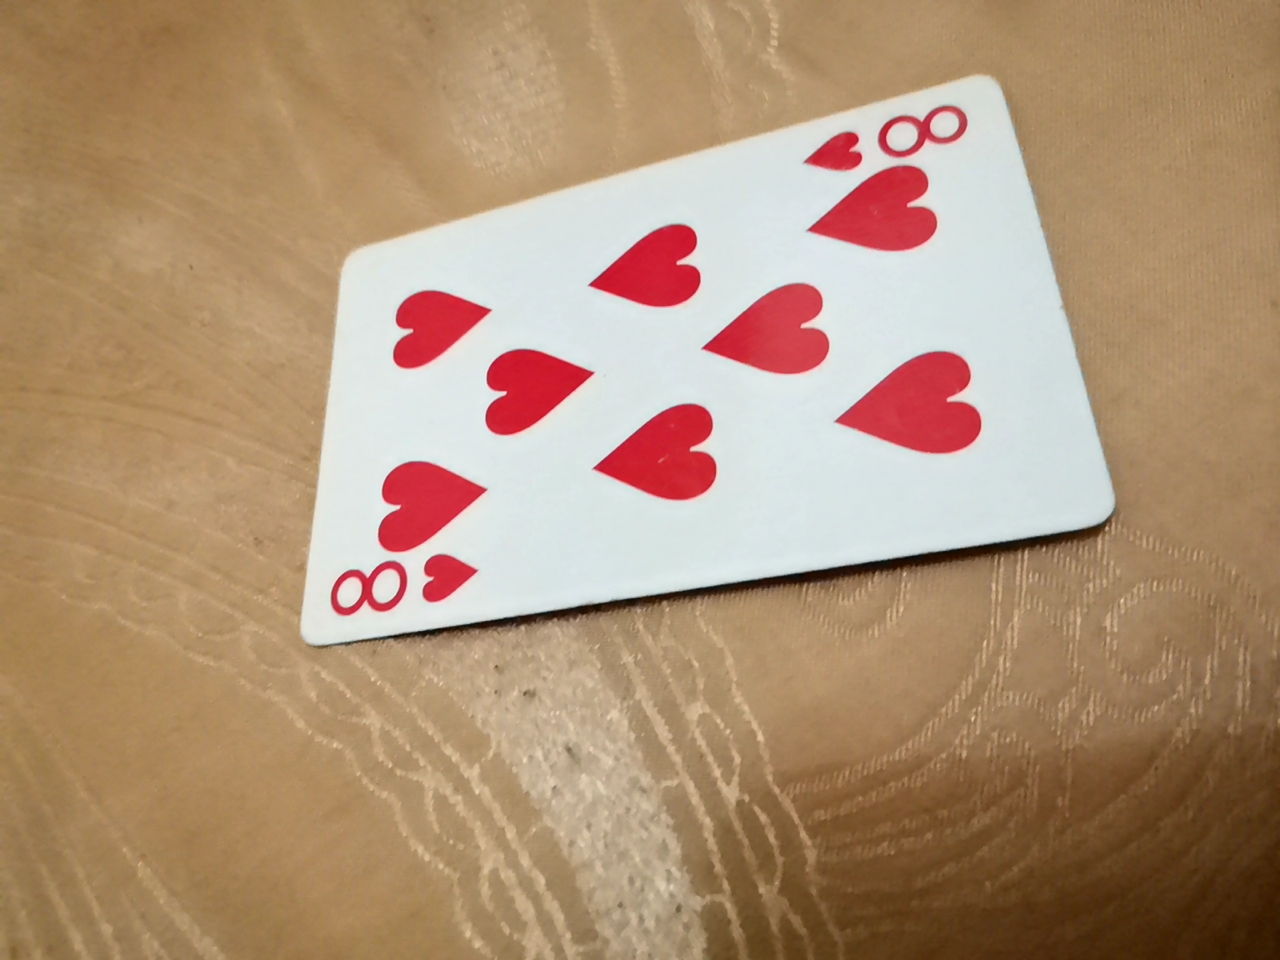hx 8: (318, 96, 1104, 672)
